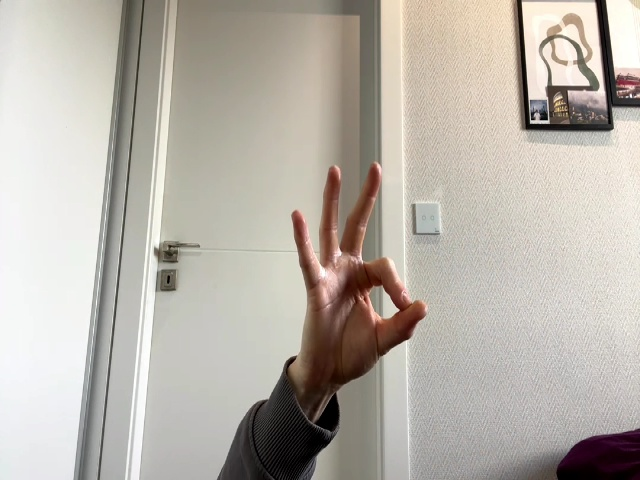O: (292, 162, 428, 379)
